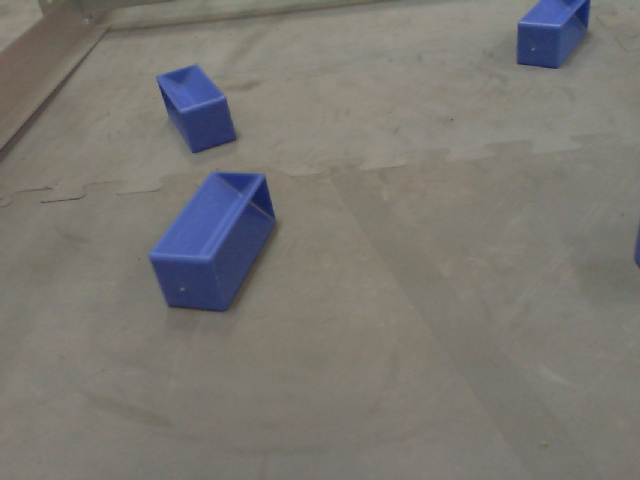BlueSample: (146, 170, 276, 324), (155, 59, 237, 159), (511, 1, 594, 72)
